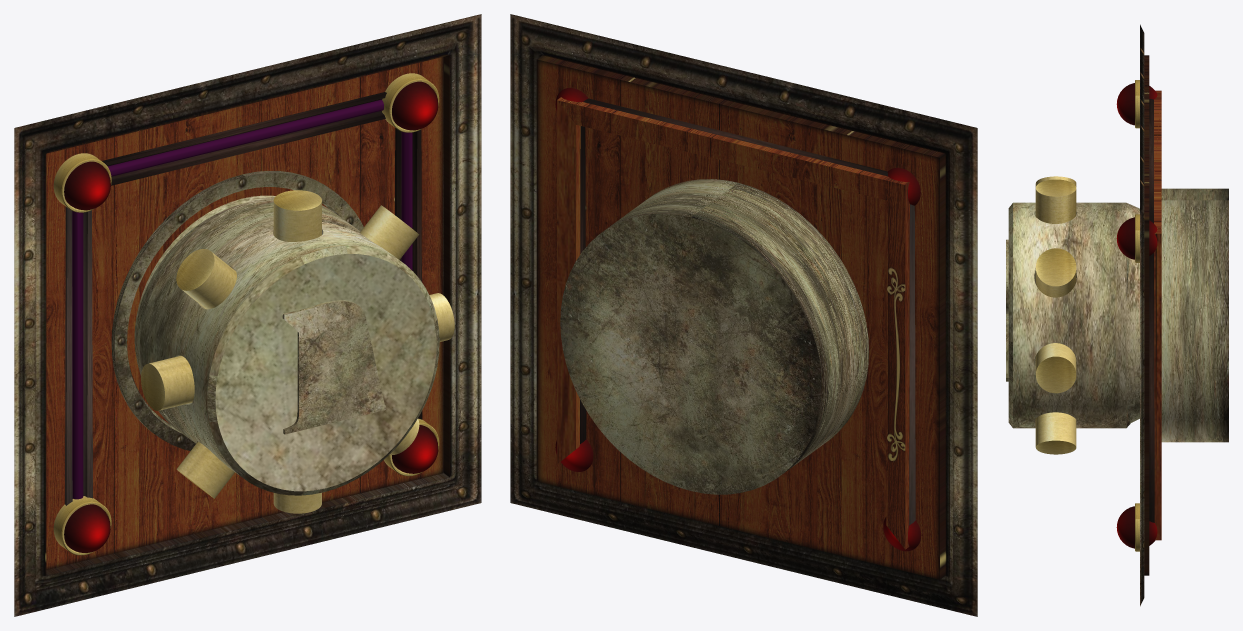
The model's file is Level_02_Wall_02.FBX.
3 renders of one model, left to right at view 1: azimuth 30°, elevation 25°; view 2: azimuth 150°, elevation 25°; view 3: azimuth 270°, elevation 25°, orthographic. The views are drawn at different scales.
Parts seen in each view (by area): view 1: Wall_02, Wheel_R, Energy, Wheel_Buttons_01, Wheel_Buttons_00, Wheel_Buttons_02, Sphere005, Sphere003, Sphere001, Wheel_Buttons_07, Wheel_Buttons_03, Sphere004 (+2 smaller); view 2: Wall_02, Sphere004; view 3: Wall_02, Wheel_R, Wheel_Buttons_04, Wheel_Buttons_03, Wheel_Buttons_02, Wheel_Buttons_05, Sphere003, Sphere004, Sphere005.
Part boxes in pixels (left/top/right/bottom): Wall_02: left=14, top=14, right=481, bottom=616; Wheel_R: left=134, top=195, right=439, bottom=495; Energy: left=72, top=99, right=412, bottom=499; Wheel_Buttons_01: left=176, top=249, right=236, bottom=309; Wheel_Buttons_00: left=141, top=355, right=194, bottom=410; Wheel_Buttons_02: left=273, top=190, right=321, bottom=241; Sphere005: left=64, top=161, right=110, bottom=210; Sphere003: left=392, top=81, right=438, bottom=130; Sphere001: left=64, top=504, right=110, bottom=552; Wheel_Buttons_07: left=176, top=441, right=234, bottom=498; Wheel_Buttons_03: left=360, top=205, right=419, bottom=259; Sphere004: left=392, top=425, right=438, bottom=473; Wall_02: left=510, top=14, right=977, bottom=616; Sphere004: left=555, top=439, right=593, bottom=471; Wall_02: left=1135, top=24, right=1228, bottom=606; Wheel_R: left=1006, top=202, right=1139, bottom=428; Wheel_Buttons_04: left=1035, top=343, right=1076, bottom=393; Wheel_Buttons_03: left=1035, top=248, right=1076, bottom=297; Wheel_Buttons_02: left=1035, top=179, right=1076, bottom=223; Wheel_Buttons_05: left=1035, top=412, right=1076, bottom=454; Sphere003: left=1116, top=217, right=1157, bottom=259; Sphere004: left=1116, top=506, right=1157, bottom=548; Sphere005: left=1116, top=83, right=1157, bottom=125.
Size of the model in its own units: 100 by 100 by 49.09.
